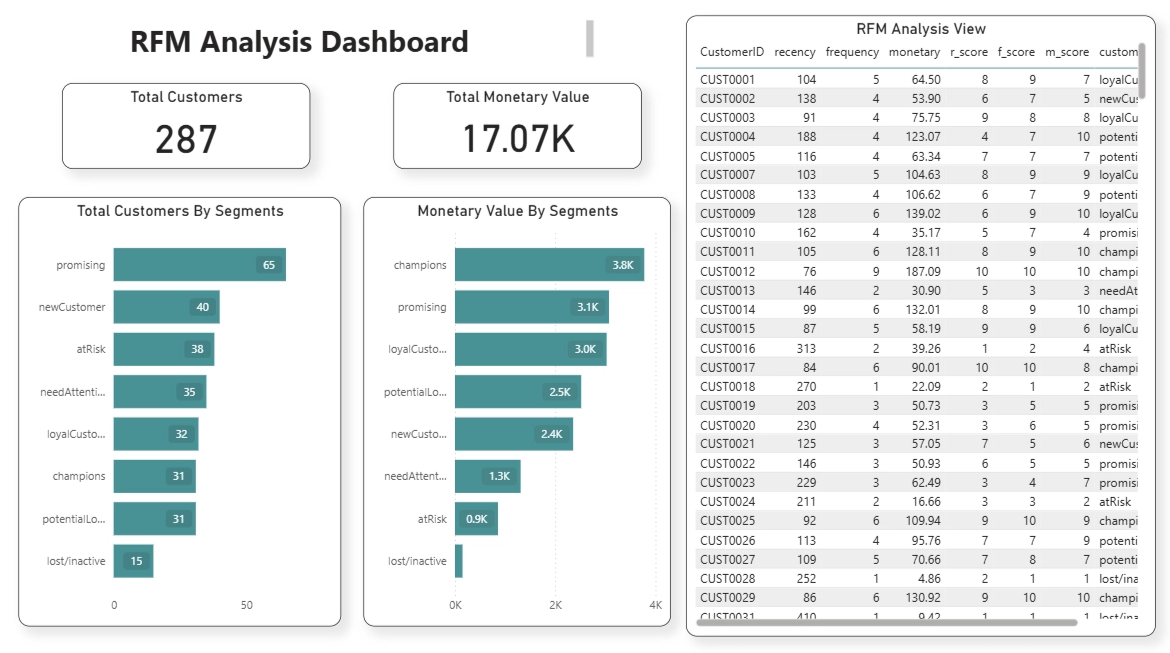

The page's visual inventory and layout, read from the dashboard file:
{"tool":"powerbi","page":{"name":"rfm","canvas":[1280,720],"ordinal":0},"visuals":[{"type":"card","title":"Total Customers","fields":{"Values":["Query1.total_customers"]},"box":[68.1,95.4,271,93.9],"z":0},{"type":"tableEx","title":"RFM Analysis View","fields":{"Values":["Query1.CustomerID","Query1.recency","Query1.frequency","Query1.monetary","Query1.r_score","Query1.f_score","Query1.m_score","Query1.customer_segment"]},"box":[751,21.2,513.3,678.4],"z":1},{"type":"barChart","title":"Total Customers By Segments","fields":{"Category":["Query1.customer_segment"],"Y":["CountNonNull(Query1.CustomerID)"]},"box":[21.2,219.6,352.8,469.4],"z":2},{"type":"textbox","box":[10.6,21.2,645.1,51.5],"z":3},{"type":"card","title":"Total Monetary Value","fields":{"Values":["Sum(Query1.monetary)"]},"box":[431.5,95.4,271,93.9],"z":4},{"type":"clusteredBarChart","title":"Monetary Value By Segments","fields":{"Category":["Query1.customer_segment"],"Y":["Sum(Query1.monetary)"]},"box":[398.2,219.6,336.2,469.4],"z":5}]}

Visuals, with their boxes in screenshot pixels (x1, y1, x2, y2), scaled from the page's 1280x720 canvas onto the 1170x653 screenshot:
"Total Customers" card: detection(62, 87, 310, 172)
"RFM Analysis View" tableEx: detection(686, 19, 1156, 634)
"Total Customers By Segments" barChart: detection(19, 199, 342, 625)
textbox: detection(10, 19, 599, 66)
"Total Monetary Value" card: detection(394, 87, 642, 172)
"Monetary Value By Segments" clusteredBarChart: detection(364, 199, 671, 625)
